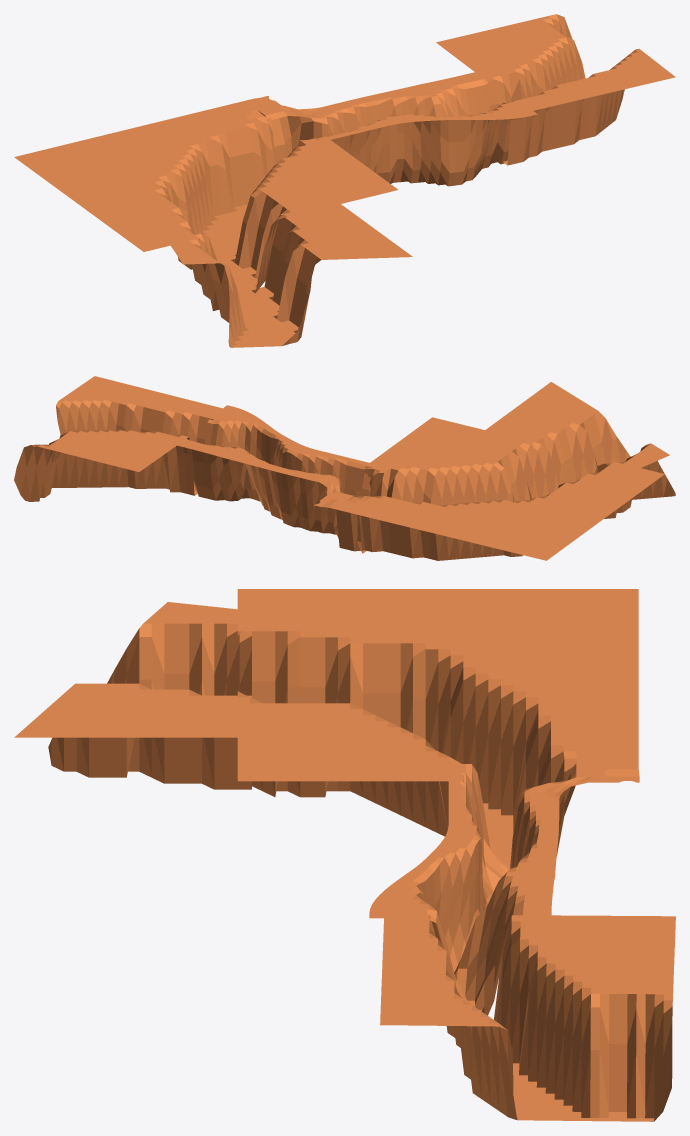
Rendered from sandy_canyon.fbx.
3 renders of one model, top to bottom at view 1: azimuth 30°, elevation 25°; view 2: azimuth 150°, elevation 25°; view 3: azimuth 270°, elevation 25°, orthographic. The views are drawn at different scales.
Parts seen in each view (by area): view 1: Plane.004, Plane, Plane.012, Plane.011; view 2: Plane.004, Plane.012, Plane, Plane.011; view 3: Plane.004, Plane.012, Plane.011, Plane.
Part boxes in pixels (bbox=[...]): Plane.004: bbox=[14, 96, 398, 298]; Plane: bbox=[257, 71, 537, 186]; Plane.012: bbox=[436, 14, 675, 165]; Plane.011: bbox=[171, 204, 412, 347]; Plane.004: bbox=[314, 417, 664, 560]; Plane.012: bbox=[14, 376, 222, 501]; Plane: bbox=[174, 405, 390, 553]; Plane.011: bbox=[485, 382, 675, 518]; Plane.004: bbox=[237, 589, 639, 872]; Plane.012: bbox=[380, 914, 675, 1121]; Plane.011: bbox=[14, 602, 251, 789]; Plane: bbox=[369, 763, 605, 1015].
Bounding box in the file's own units: 6877 × 812 × 4399.
